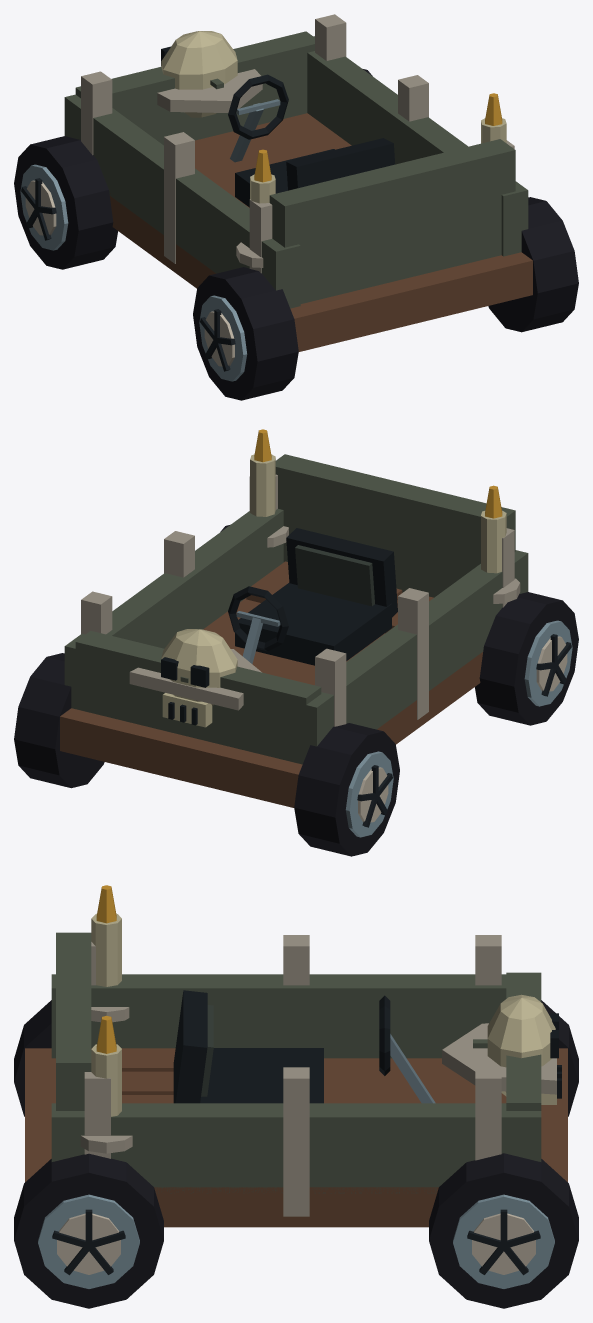
File: kart.glb
3 views of the same model, one above another, from view 1: azimuth 30°, elevation 25°; view 2: azimuth 150°, elevation 25°; view 3: azimuth 270°, elevation 25° (orthographic). The views are drawn at different scales.
Visible parts, largest first — view 1: identity-wagon-wagon-timber-coach, wheel-rear-left, wheel-front-left, identity-wagon-driver-cockpit, wheel-rear-right, identity-wagon-motif-skull, identity-wagon-motif-shield, identity-wagon-motif-candles; view 2: identity-wagon-wagon-timber-coach, identity-wagon-driver-cockpit, wheel-front-left, wheel-rear-left, wheel-front-right, identity-wagon-motif-skull, identity-wagon-motif-candles, identity-wagon-motif-shield; view 3: identity-wagon-wagon-timber-coach, wheel-front-right, wheel-rear-right, identity-wagon-driver-cockpit, identity-wagon-motif-candles, identity-wagon-motif-skull, identity-wagon-motif-shield, wheel-rear-left, wheel-front-left.
Part boxes in pixels (box(x1,y1,x2,y2)): identity-wagon-wagon-timber-coach: box(64, 14, 532, 351); wheel-rear-left: box(193, 267, 298, 400); wheel-front-left: box(14, 136, 117, 269); identity-wagon-driver-cockpit: box(228, 74, 395, 207); wheel-rear-right: box(488, 197, 578, 332); identity-wagon-motif-skull: box(161, 31, 237, 117); identity-wagon-motif-shield: box(157, 69, 262, 112); identity-wagon-motif-candles: box(236, 93, 506, 267); identity-wagon-wagon-timber-coach: box(60, 454, 528, 807); identity-wagon-driver-cockpit: box(228, 528, 397, 665); wheel-front-left: box(294, 723, 399, 856); wheel-rear-left: box(475, 592, 578, 725); wheel-front-right: box(14, 653, 104, 788); identity-wagon-motif-skull: box(161, 629, 237, 727); identity-wagon-motif-candles: box(250, 429, 520, 603); identity-wagon-motif-shield: box(129, 649, 261, 710); identity-wagon-wagon-timber-coach: box(25, 932, 567, 1227); wheel-front-right: box(429, 1153, 578, 1308); wheel-rear-right: box(14, 1153, 163, 1308); identity-wagon-driver-cockpit: box(173, 990, 435, 1103); identity-wagon-motif-candles: box(80, 885, 132, 1153); identity-wagon-motif-skull: box(487, 994, 561, 1104); identity-wagon-motif-shield: box(442, 1023, 556, 1094); wheel-rear-left: box(14, 1000, 51, 1116); wheel-front-left: box(541, 1000, 578, 1116).
Bounding box in the file's own units: 2.07 × 1.33 × 2.56.
